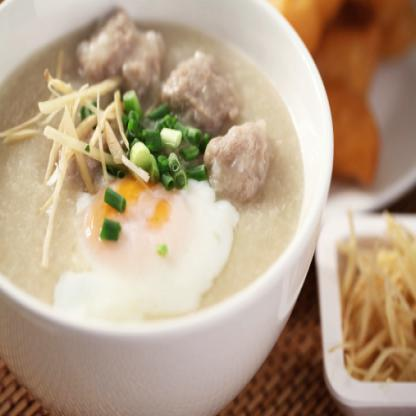Joke: (0, 0, 304, 318)
